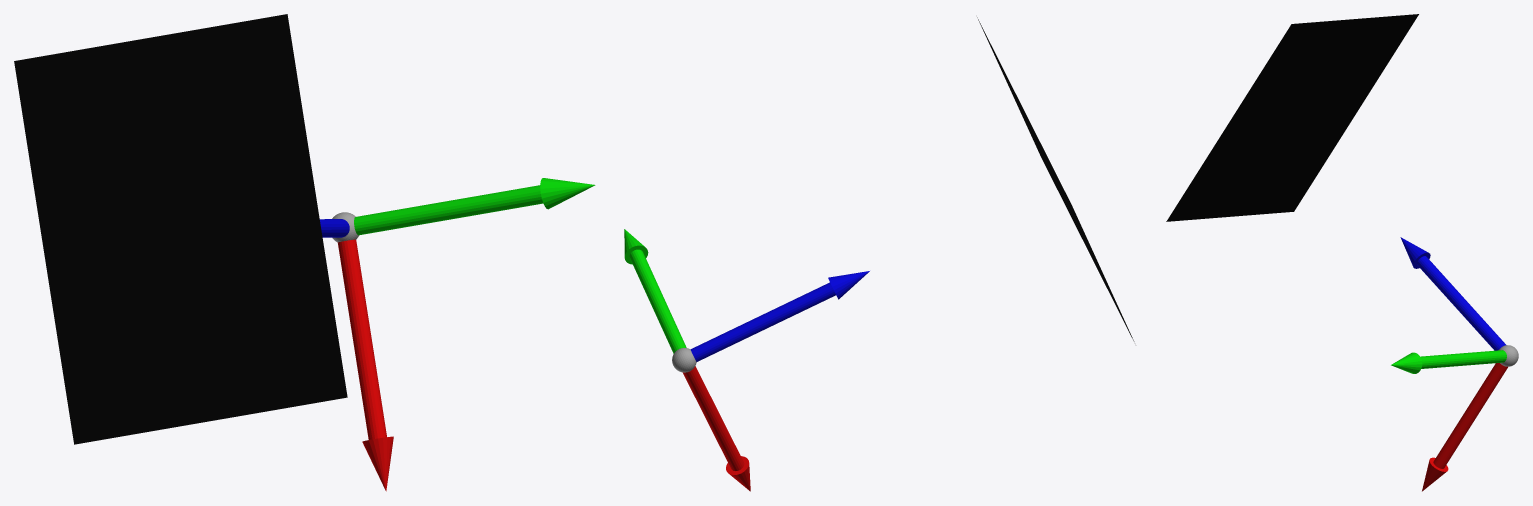
The picture shows the model from 3 angles, left to right: view 1: azimuth 30°, elevation 25°; view 2: azimuth 150°, elevation 25°; view 3: azimuth 270°, elevation 25°; orthographic projection. The views are drawn at different scales.
Bounding box in the file's own units: 0.3202 × 0.3075 × 0.2435.
